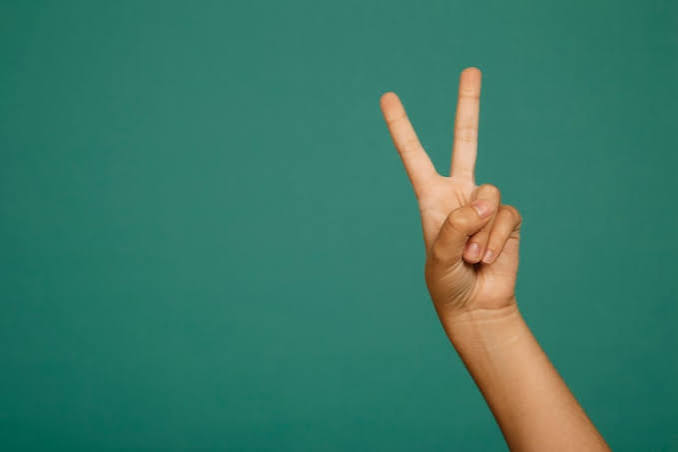peace_sign: (356, 51, 549, 311)
